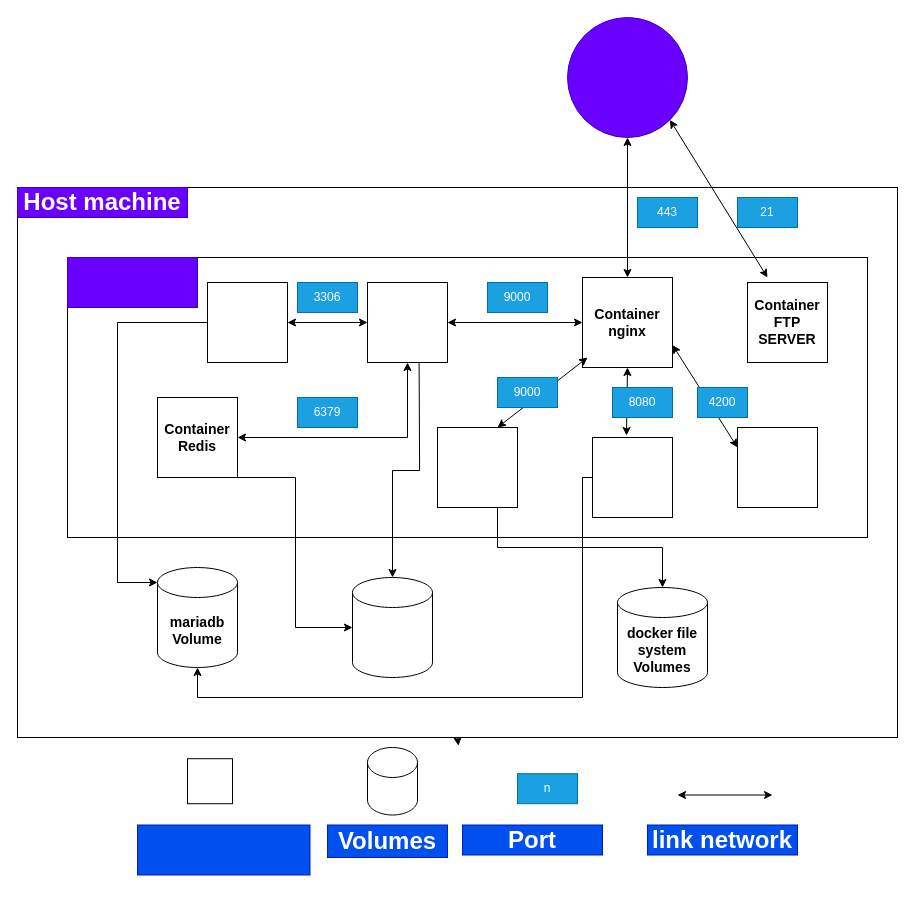
Some shapes in this 915 by 898 pixel diagram are drawn without their labels. Here are the shapes that lost their labels. From the top down, the box of each, then its label:
(566, 16, 688, 138): www
(66, 256, 198, 308): docker network
(206, 282, 288, 362): Container Mariadb
(366, 282, 448, 362): Container wordpress
(436, 426, 518, 508): Container Portainer
(592, 436, 672, 518): Container Adminer
(736, 426, 818, 508): Container Portfolio
(352, 576, 432, 678): wordpress file volume
(136, 824, 310, 875): Image Docker
